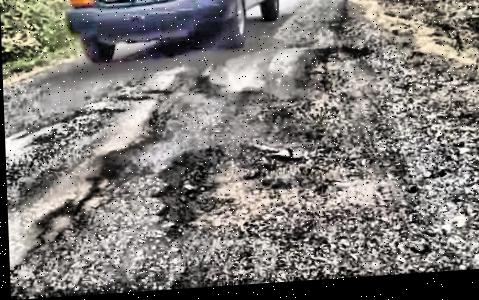pothole: (145, 140, 316, 243)
